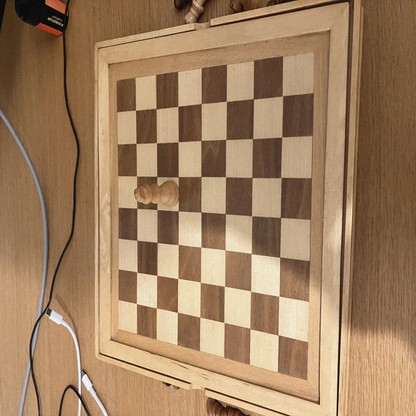king_white: (135, 180, 179, 207)
